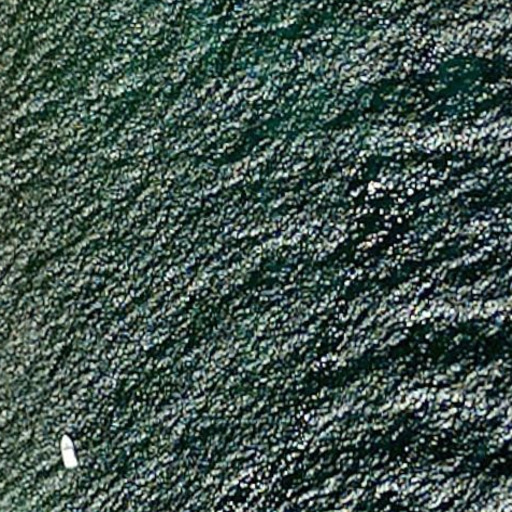ship: (56, 431, 82, 473)
